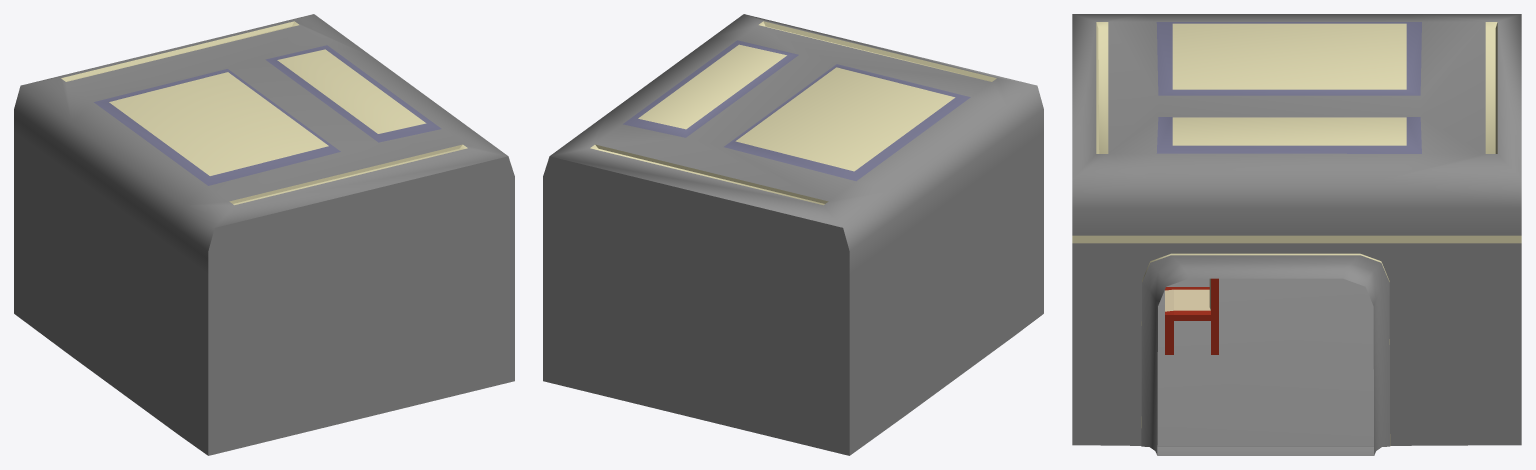
Rendered from electro.fbx.
3 renders of one model, left to right at view 1: azimuth 30°, elevation 25°; view 2: azimuth 150°, elevation 25°; view 3: azimuth 270°, elevation 25°, orthographic. The views are drawn at different scales.
Visible parts, largest first — view 1: Cube.015; view 2: Cube.015; view 3: Cube.015.
Part boxes in pixels (x1,y1,x2,y2): Cube.015: (14,14,514,455); Cube.015: (543,14,1043,455); Cube.015: (1072,14,1521,455).
Size of the model in its own units: 434 by 306 by 449.
